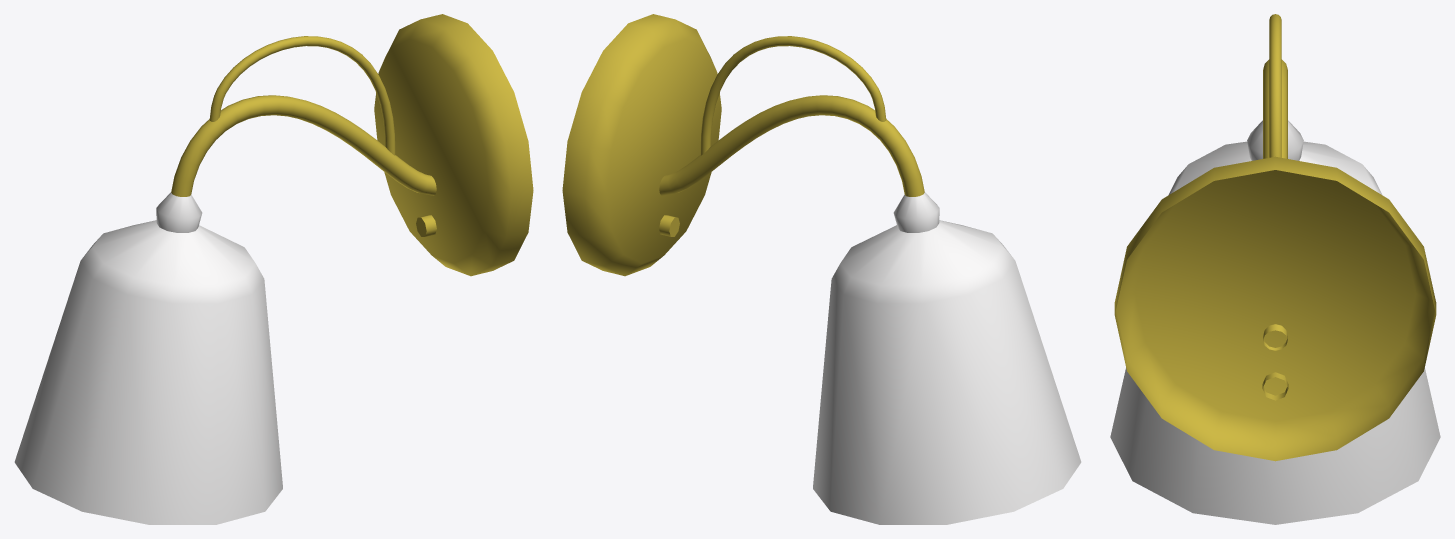
File: Wall_Light.fbx
3 renders of one model, left to right at view 1: azimuth 30°, elevation 25°; view 2: azimuth 150°, elevation 25°; view 3: azimuth 270°, elevation 25°, orthographic. The views are drawn at different scales.
Parts seen in each view (by area): view 1: Wall_Light_LOD_0; view 2: Wall_Light_LOD_0; view 3: Wall_Light_LOD_0.
Part boxes in pixels (bbox=[...]): Wall_Light_LOD_0: bbox=[14, 14, 533, 524]; Wall_Light_LOD_0: bbox=[562, 14, 1081, 524]; Wall_Light_LOD_0: bbox=[1110, 14, 1440, 524].
Size of what is drawn, in the model's own units: 32.67 by 29.96 by 17.57.
